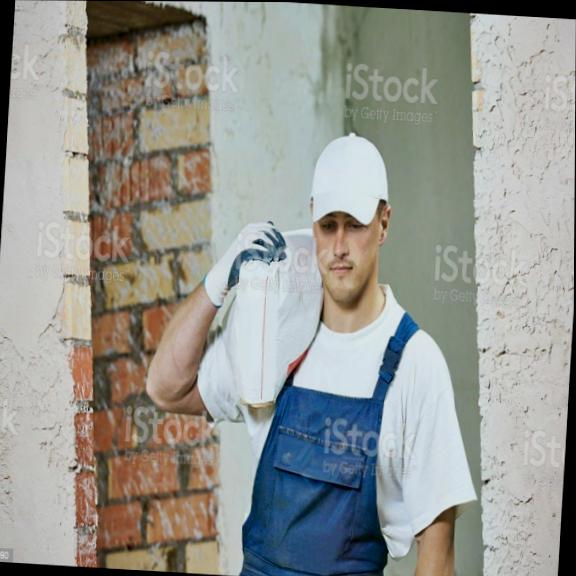no_safety_vest: (221, 289, 466, 576)
